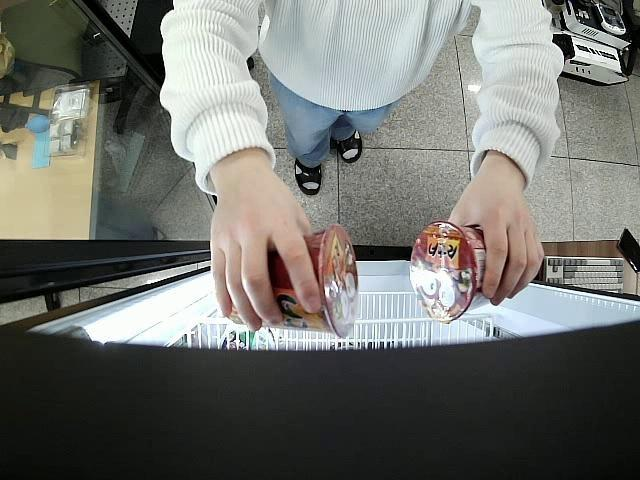06_nuguri_S: (226, 225, 359, 338), (410, 222, 490, 326)
